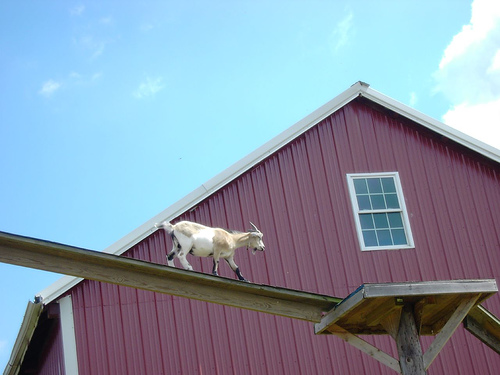goat: (156, 218, 266, 285)
